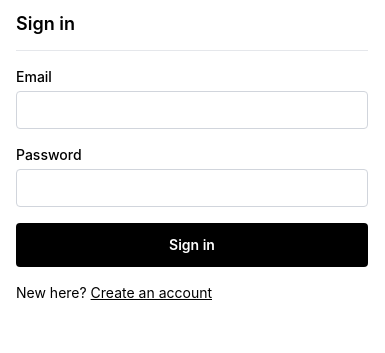
SignIn › asks for an email and password when they are empty
Click the button "Sign in" at (192, 245), box [16,223,368,267]
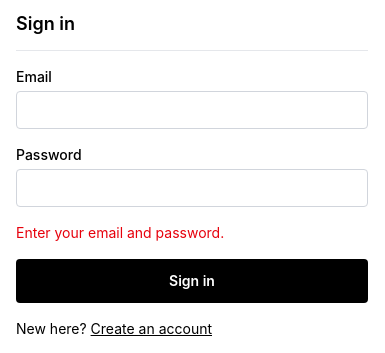
Expected: the message reads "Enter your email and password.", [16,224,224,241]
